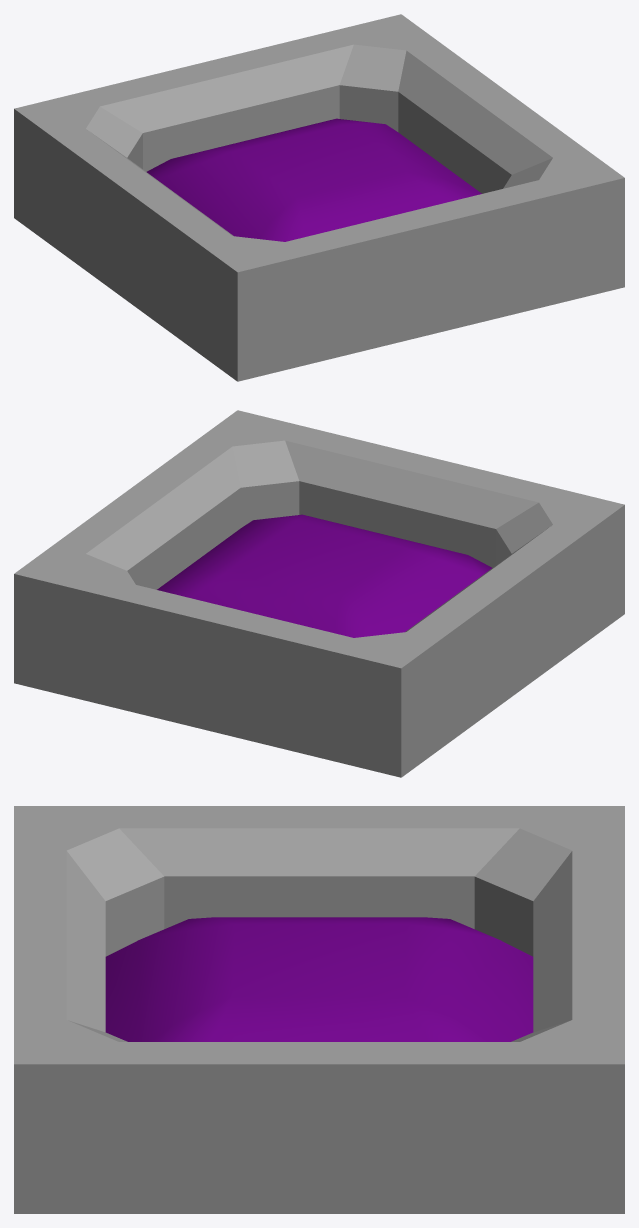
Rendered from Item_Slot.fbx.
3 views of the same model, one above another, from view 1: azimuth 30°, elevation 25°; view 2: azimuth 150°, elevation 25°; view 3: azimuth 270°, elevation 25° (orthographic). The views are drawn at different scales.
Visible parts, largest first — view 1: polySurface3; view 2: polySurface3; view 3: polySurface3.
Part boxes in pixels (x1,y1,x2,y2): polySurface3: (14, 14, 624, 381); polySurface3: (14, 410, 624, 777); polySurface3: (14, 806, 624, 1213).
Bounding box in the file's own units: 1 × 0.2699 × 1.
